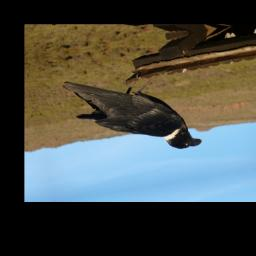Crow: (62, 62, 205, 168)
